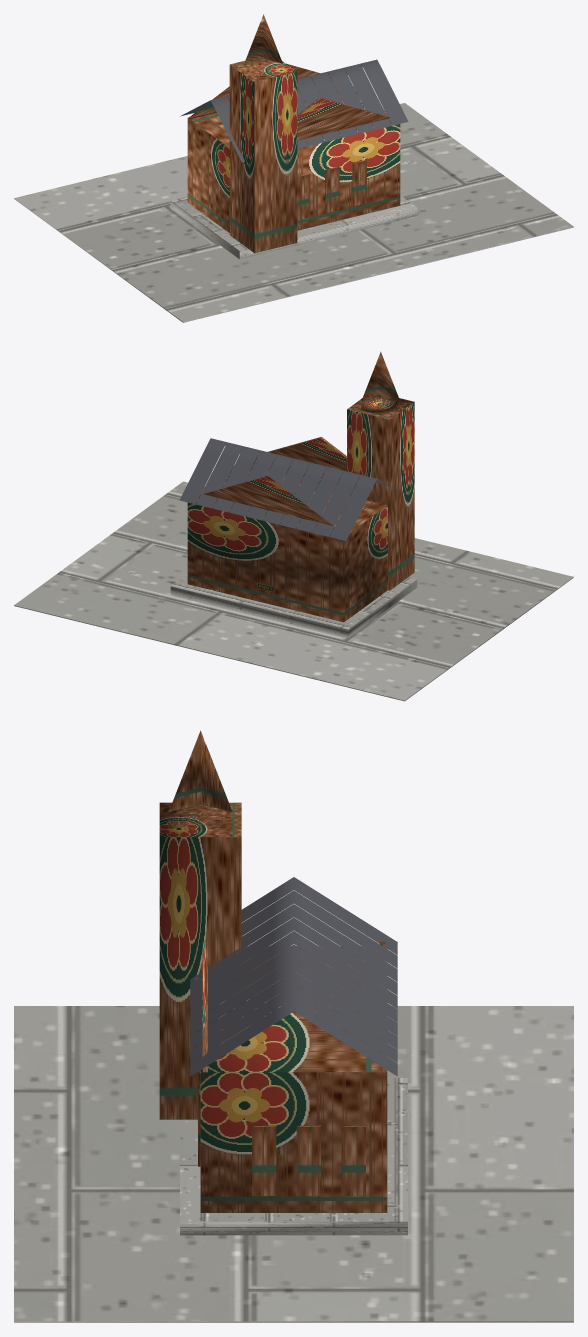
The picture shows the model from 3 angles, top to bottom: view 1: azimuth 30°, elevation 25°; view 2: azimuth 150°, elevation 25°; view 3: azimuth 270°, elevation 25°; orthographic projection. The views are drawn at different scales.
Visible parts, largest first — view 1: 11140_02_04519_006_01_L2__plinth_body, 11140_02_04519_006_02_L2__nave, 11140_02_04519_006_03_L2__roof, 11140_02_04519_006_05_L2__windows; view 2: 11140_02_04519_006_01_L2__plinth_body, 11140_02_04519_006_02_L2__nave, 11140_02_04519_006_03_L2__roof; view 3: 11140_02_04519_006_01_L2__plinth_body, 11140_02_04519_006_02_L2__nave, 11140_02_04519_006_03_L2__roof, 11140_02_04519_006_05_L2__windows.
Boxes of the visible parts, left/top/right/bottom form: 11140_02_04519_006_01_L2__plinth_body: left=14, top=103, right=573, bottom=322; 11140_02_04519_006_02_L2__nave: left=187, top=14, right=400, bottom=253; 11140_02_04519_006_03_L2__roof: left=180, top=59, right=408, bottom=162; 11140_02_04519_006_05_L2__windows: left=297, top=160, right=366, bottom=220; 11140_02_04519_006_01_L2__plinth_body: left=14, top=481, right=573, bottom=701; 11140_02_04519_006_02_L2__nave: left=187, top=351, right=414, bottom=622; 11140_02_04519_006_03_L2__roof: left=179, top=438, right=407, bottom=540; 11140_02_04519_006_01_L2__plinth_body: left=14, top=1006, right=573, bottom=1322; 11140_02_04519_006_02_L2__nave: left=159, top=730, right=387, bottom=1212; 11140_02_04519_006_03_L2__roof: left=190, top=877, right=397, bottom=1076; 11140_02_04519_006_05_L2__windows: left=198, top=1044, right=365, bottom=1196.
Size of the model in its own units: 40 by 22.9 by 30.
Materials: 5 (5 with a texture image).
